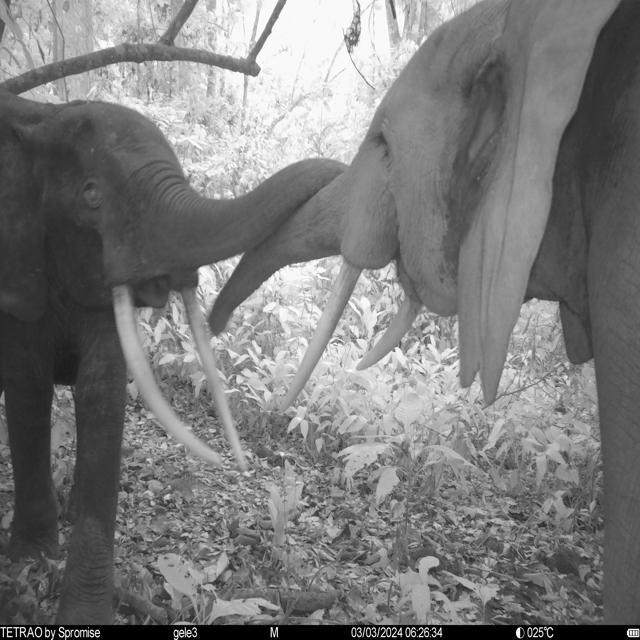ear: (459, 0, 622, 404)
elephant: (208, 2, 640, 626), (0, 87, 349, 627)
tusk: (109, 285, 223, 468), (279, 255, 365, 416), (180, 288, 249, 474), (354, 296, 422, 373)
